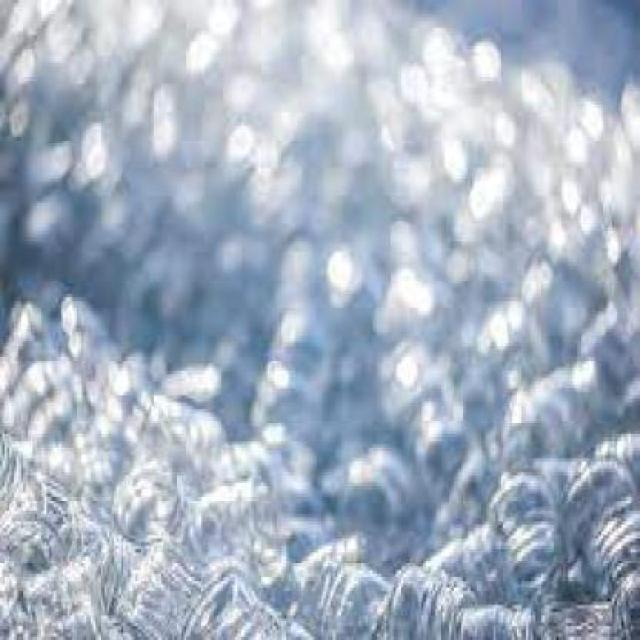kaca: (0, 0, 638, 637), (0, 0, 388, 442), (364, 0, 638, 288), (160, 277, 277, 455), (523, 228, 617, 357), (182, 469, 282, 585), (558, 115, 638, 252), (509, 115, 589, 252), (485, 458, 563, 598), (254, 304, 331, 444), (376, 329, 462, 451), (461, 154, 554, 266), (126, 385, 226, 489), (334, 440, 420, 560), (59, 288, 123, 442), (100, 214, 172, 349), (314, 329, 377, 478), (417, 186, 503, 288), (546, 354, 622, 469), (576, 294, 638, 434), (0, 437, 71, 554), (285, 525, 363, 629), (114, 538, 195, 637), (562, 455, 638, 557), (0, 294, 54, 437), (380, 560, 480, 637), (424, 517, 516, 598), (17, 555, 105, 637), (505, 52, 586, 140), (228, 437, 317, 514), (61, 504, 134, 596), (70, 417, 136, 518), (108, 451, 186, 535), (472, 304, 543, 396), (182, 563, 268, 637), (414, 420, 481, 514), (0, 508, 49, 629), (10, 354, 78, 441), (377, 262, 449, 343), (443, 434, 497, 538), (386, 192, 440, 291), (456, 277, 512, 371), (552, 46, 625, 112), (498, 377, 557, 458), (322, 566, 389, 637), (446, 340, 499, 428), (246, 538, 308, 612), (108, 346, 194, 399), (590, 491, 638, 582), (289, 478, 343, 550), (314, 233, 366, 304), (534, 591, 611, 637), (454, 591, 528, 637), (275, 225, 314, 308), (611, 549, 638, 637), (584, 434, 638, 478), (554, 598, 614, 637), (180, 354, 223, 406), (611, 80, 638, 154), (612, 244, 637, 322), (276, 609, 330, 637)
